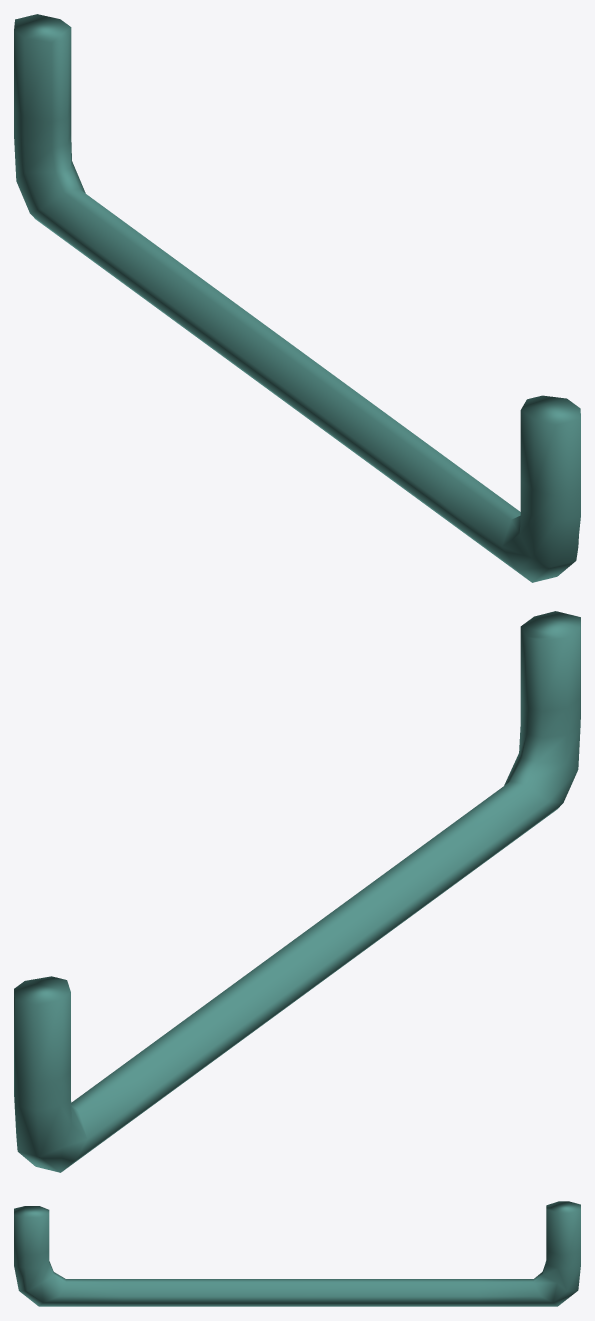
File: Container_Waterpipe_6.fbx
The picture shows the model from 3 angles, top to bottom: view 1: azimuth 30°, elevation 25°; view 2: azimuth 150°, elevation 25°; view 3: azimuth 270°, elevation 25°; orthographic projection. The views are drawn at different scales.
Parts seen in each view (by area): view 1: pasted__pCube44; view 2: pasted__pCube44; view 3: pasted__pCube44.
Boxes of the visible parts, x1,y1,x2,y2 form: pasted__pCube44: (14, 14, 580, 582); pasted__pCube44: (14, 611, 580, 1172); pasted__pCube44: (14, 1201, 580, 1306).
Size of the model in its own units: 0.1003 by 0.3794 by 2.03.
